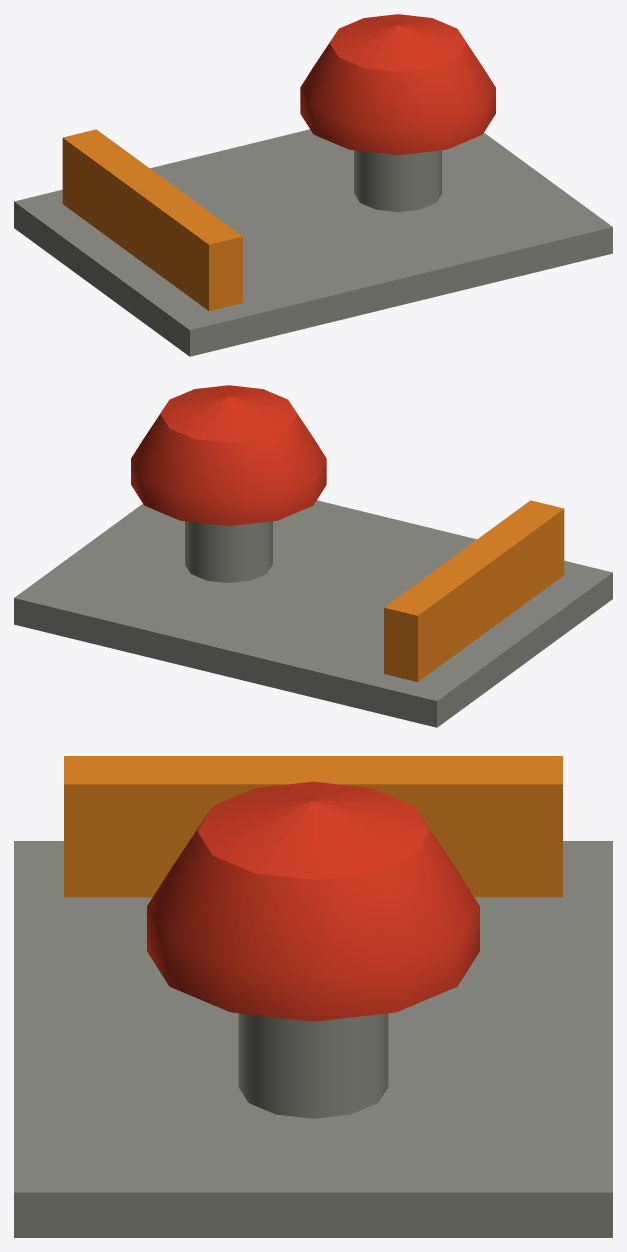
File: refuge100_beacon.obj
3 views of the same model, one above another, from view 1: azimuth 30°, elevation 25°; view 2: azimuth 150°, elevation 25°; view 3: azimuth 270°, elevation 25° (orthographic). The views are drawn at different scales.
Parts seen in each view (by area): view 1: refuge100_beacon; view 2: refuge100_beacon; view 3: refuge100_beacon.
Boxes of the visible parts, x1=… form: refuge100_beacon: x1=14, y1=14, x2=612, y2=356; refuge100_beacon: x1=14, y1=385, x2=612, y2=727; refuge100_beacon: x1=14, y1=756, x2=612, y2=1237.
Bounding box in the file's own units: 0.5 × 0.22 × 0.36.
